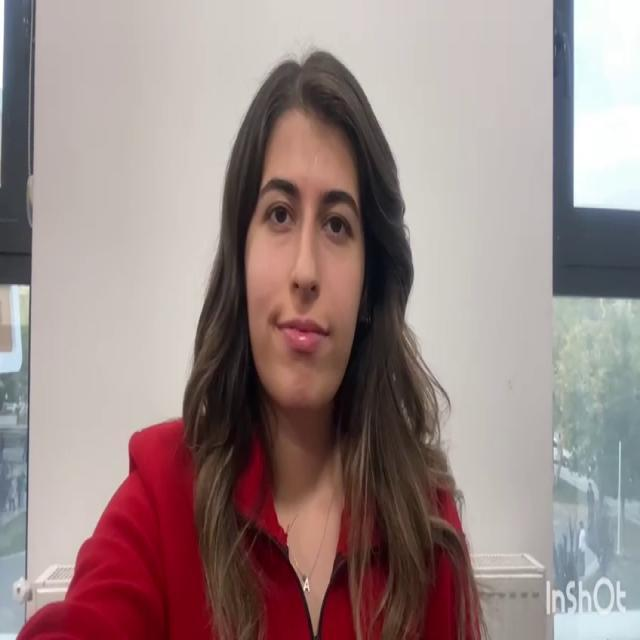natural: (248, 113, 363, 398)
